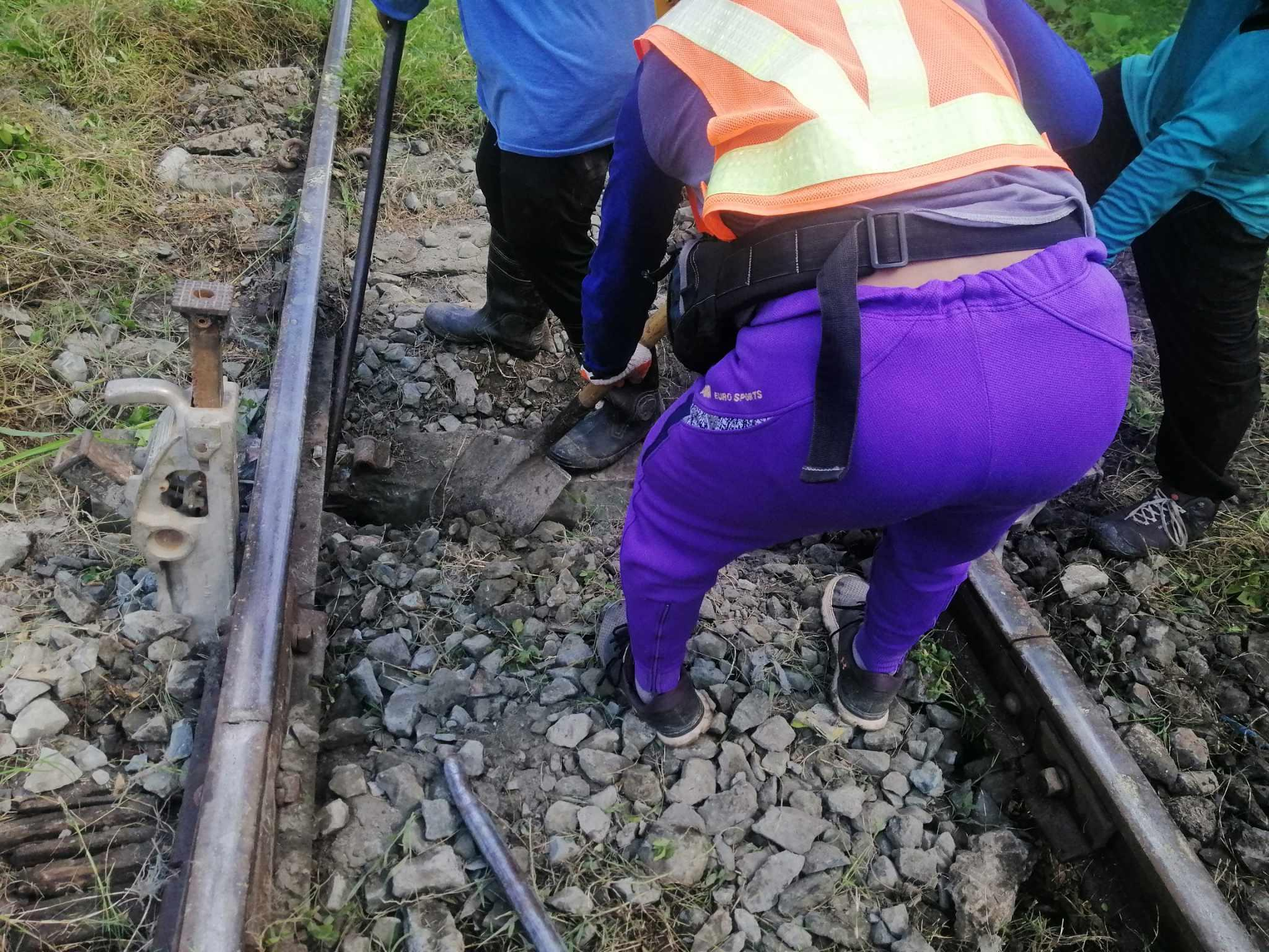railway-gap: (203, 675, 289, 770), (989, 599, 1069, 675)
